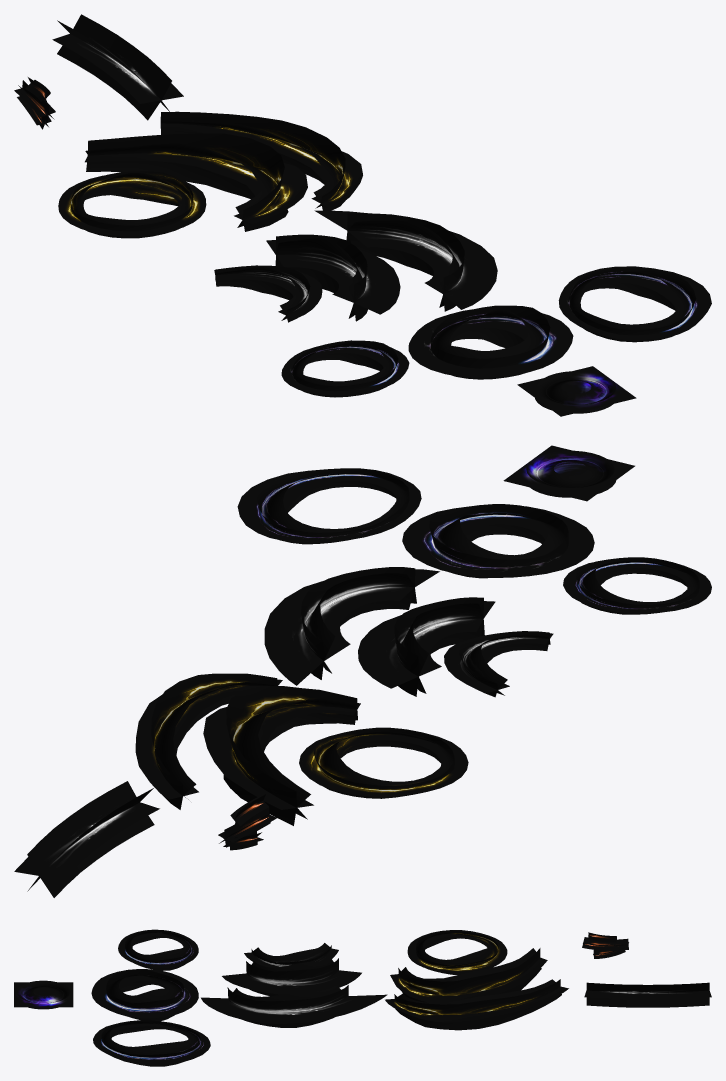
Rendered from ts_dgtx.FBX.
3 views of the same model, one above another, from view 1: azimuth 30°, elevation 25°; view 2: azimuth 150°, elevation 25°; view 3: azimuth 270°, elevation 25° (orthographic). The views are drawn at different scales.
Parts seen in each view (by area): view 1: ts_dgtx003b, ts_dgtx001b, ts_dgtx002c, ts_dgtx003c, ts_dgtx001c, ts_dgtx003a, ts_dgtx002b, ts_dgtx005a, ts_dgtx001a, ts_dgtx006a, ts_dgtx002a, ts_dgtx004a; view 2: ts_dgtx003b, ts_dgtx001b, ts_dgtx002c, ts_dgtx001c, ts_dgtx002b, ts_dgtx003c, ts_dgtx005a, ts_dgtx003a, ts_dgtx001a, ts_dgtx006a, ts_dgtx002a, ts_dgtx004a; view 3: ts_dgtx003c, ts_dgtx002c, ts_dgtx001b, ts_dgtx003b, ts_dgtx001c, ts_dgtx002b, ts_dgtx005a, ts_dgtx003a, ts_dgtx001a, ts_dgtx006a, ts_dgtx002a, ts_dgtx004a.
Boxes of the visible parts, x1,y1,x2,y2 form: ts_dgtx003b: [85, 133, 307, 231]; ts_dgtx001b: [408, 305, 573, 379]; ts_dgtx002c: [314, 210, 497, 311]; ts_dgtx003c: [160, 111, 362, 210]; ts_dgtx001c: [558, 266, 711, 342]; ts_dgtx003a: [58, 171, 206, 238]; ts_dgtx002b: [266, 234, 400, 321]; ts_dgtx005a: [52, 14, 183, 120]; ts_dgtx001a: [281, 340, 409, 397]; ts_dgtx006a: [517, 366, 636, 416]; ts_dgtx002a: [214, 265, 322, 322]; ts_dgtx004a: [14, 77, 55, 129]; ts_dgtx003b: [203, 686, 360, 825]; ts_dgtx001b: [402, 504, 594, 578]; ts_dgtx002c: [264, 567, 439, 685]; ts_dgtx001c: [237, 468, 421, 544]; ts_dgtx002b: [358, 597, 495, 696]; ts_dgtx003c: [135, 673, 282, 809]; ts_dgtx005a: [14, 781, 159, 897]; ts_dgtx003a: [299, 727, 468, 798]; ts_dgtx001a: [563, 557, 711, 614]; ts_dgtx006a: [503, 445, 634, 501]; ts_dgtx002a: [444, 631, 553, 697]; ts_dgtx004a: [218, 794, 276, 850]; ts_dgtx003c: [385, 979, 568, 1030]; ts_dgtx002c: [201, 985, 387, 1027]; ts_dgtx001b: [91, 969, 198, 1021]; ts_dgtx003b: [390, 948, 547, 1002]; ts_dgtx001c: [93, 1020, 210, 1066]; ts_dgtx002b: [222, 957, 361, 996]; ts_dgtx005a: [584, 982, 711, 1007]; ts_dgtx003a: [407, 930, 507, 974]; ts_dgtx001a: [118, 929, 198, 970]; ts_dgtx006a: [14, 980, 73, 1009]; ts_dgtx002a: [244, 943, 338, 967]; ts_dgtx004a: [582, 932, 628, 958].
Bounding box in the file's own units: 27.35 × 59.44 × 4.35.
